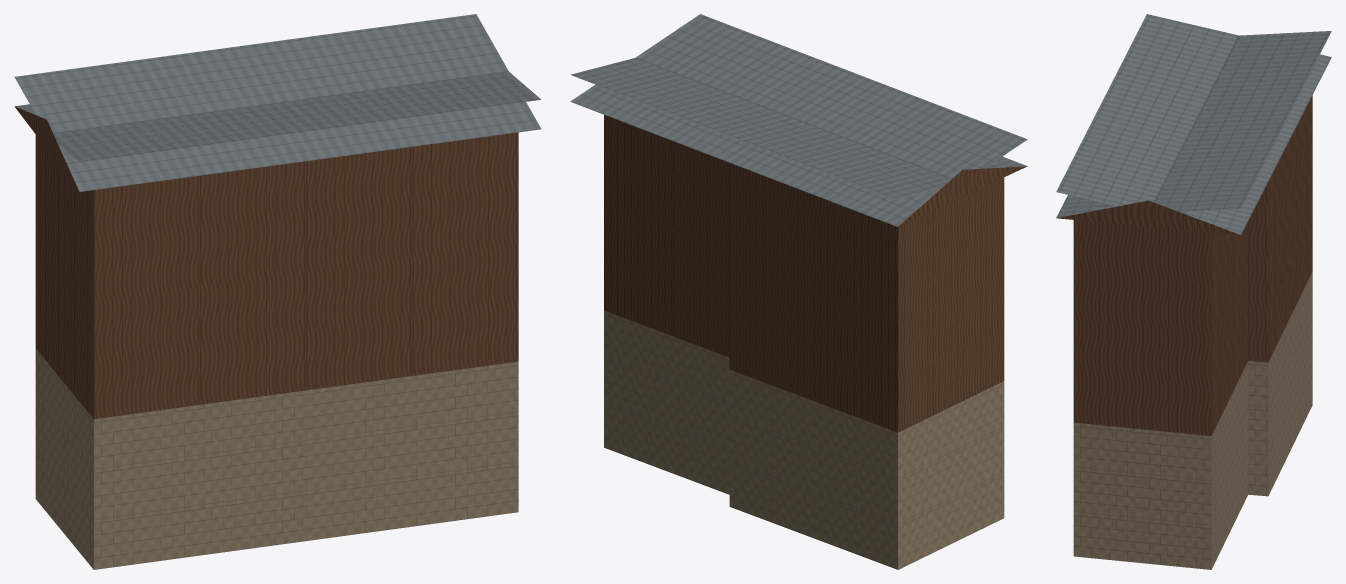
File: bld_c-14_27_486.gltf
The picture shows the model from 3 angles, left to right: view 1: azimuth 30°, elevation 25°; view 2: azimuth 150°, elevation 25°; view 3: azimuth 270°, elevation 25°; orthographic projection. The views are drawn at different scales.
Visible parts, largest first — view 1: bld_c-14_27_486; view 2: bld_c-14_27_486; view 3: bld_c-14_27_486.
Boxes of the visible parts, box(x1,y1,x2,y2) form: bld_c-14_27_486: box(14, 14, 541, 569); bld_c-14_27_486: box(570, 14, 1027, 569); bld_c-14_27_486: box(1056, 14, 1331, 569).
Size of the model in its own units: 15.93 by 14.1 by 9.53.
4 materials, 4 textured.
